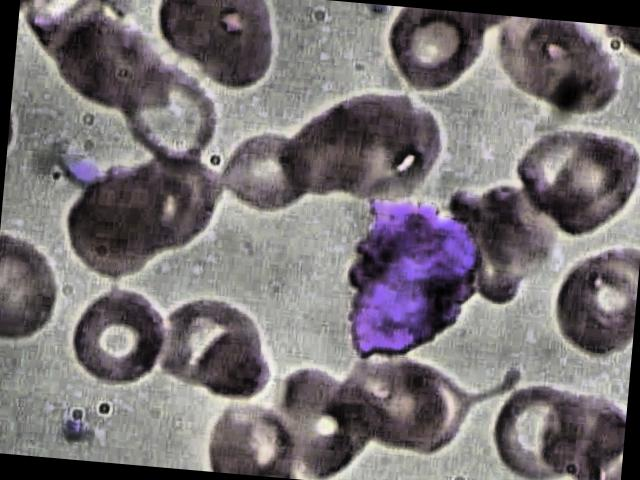Platelets: (47, 401, 95, 449), (55, 153, 106, 192)
RBC: (484, 15, 630, 121), (343, 351, 476, 460), (60, 279, 174, 391), (113, 59, 224, 174), (150, 0, 283, 93), (533, 127, 640, 241), (548, 236, 640, 367), (485, 375, 594, 480), (378, 6, 492, 97), (218, 125, 318, 214), (0, 231, 68, 347), (204, 396, 298, 478), (190, 322, 275, 398)
WBC: (326, 186, 497, 387)
